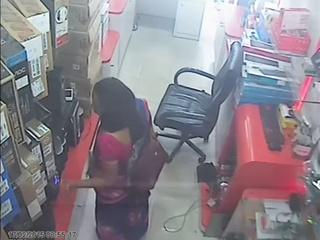Normal: (72, 76, 171, 240)
